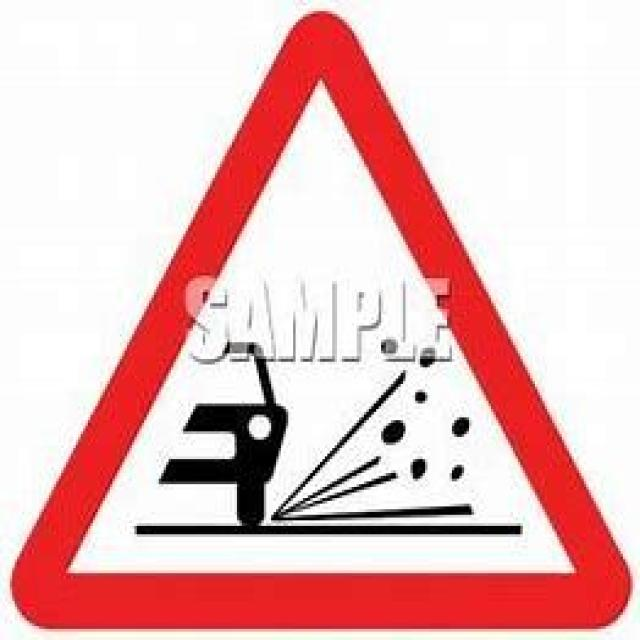LOOSE_GRAVEL: (12, 10, 631, 632)
